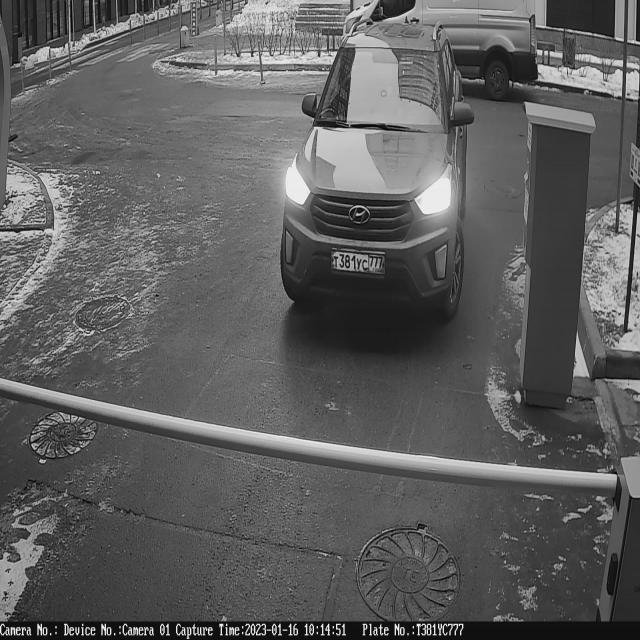car-plate-numbers: (328, 245, 389, 281)
